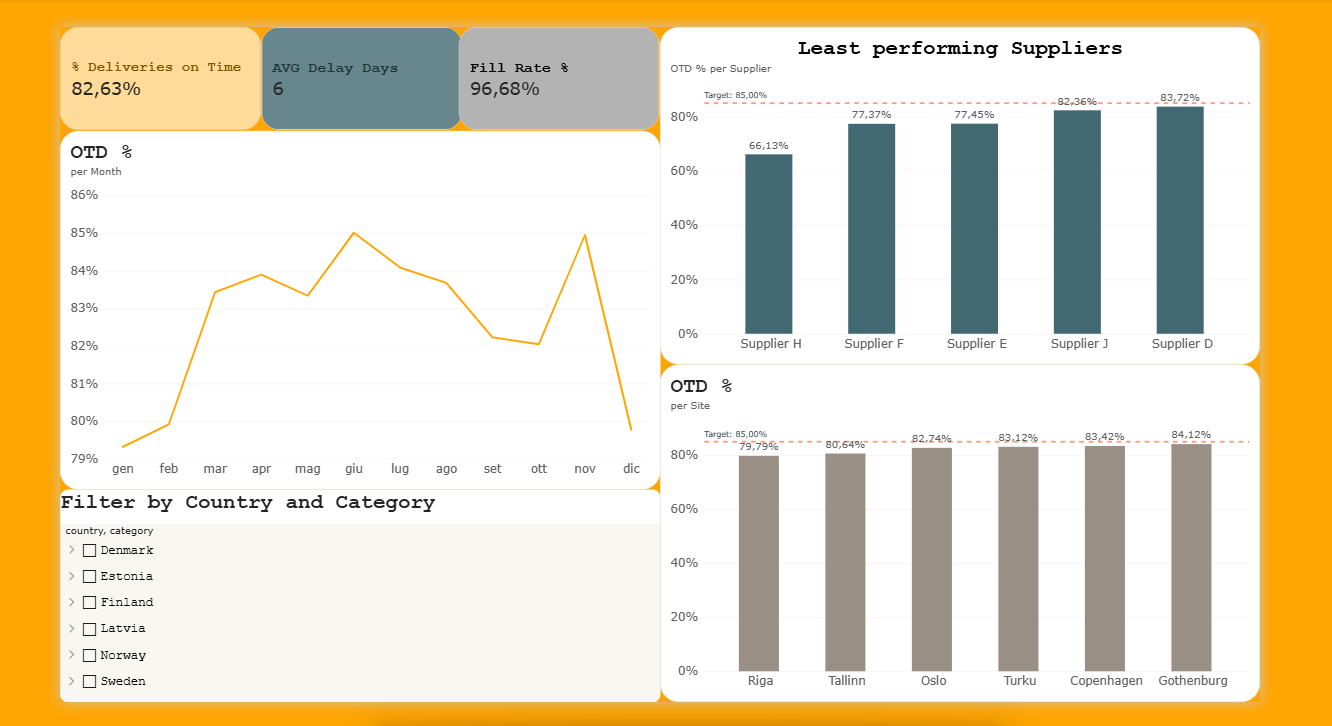

What the dashboard file says about the page in this screenshot:
{"tool":"powerbi","page":{"name":"Supply Chain","canvas":[1920,1080],"ordinal":0},"visuals":[{"type":"cardVisual","fields":{"Data":["_Measures.OTD %"]},"box":[0,0,321.7,165],"z":0},{"type":"cardVisual","title":"AVG Delay Days","fields":{"Data":["_Measures.AVG Delay Days"]},"box":[321.7,0,321.7,165],"z":1000},{"type":"cardVisual","fields":{"Data":["_Measures.Fill Rate %"]},"box":[638,0,321.7,165],"z":2000},{"type":"clusteredColumnChart","fields":{"Category":["sites.site_name"],"Y":["_Measures.OTD %"]},"box":[960,540,960,540],"z":3000},{"type":"lineChart","fields":{"Category":["DimCalendar.Month"],"Y":["_Measures.OTD %"]},"box":[0,165.6,960.7,574.2],"z":4000},{"type":"clusteredColumnChart","title":"Least performing Suppliers","fields":{"Category":["suppliers.supplier_name"],"Y":["_Measures.OTD %"]},"box":[960,0,960,540],"z":5000},{"type":"slicer","title":"Filter by Country and Category","fields":{"Values":["sites.country","orders.category"]},"box":[0,739.9,960.7,340.5],"z":6000}]}

Visuals, with their boxes on the page's 1920x1080 design canvas (x1, y1, x2, y2). These are canvas units, not pixel positions in the 1332x726 screenshot, which may show the page scaled, cropped or inside an application window:
cardVisual - _Measures.OTD %: <box>0,0,322,165</box>
"AVG Delay Days" cardVisual: <box>322,0,643,165</box>
cardVisual - _Measures.Fill Rate %: <box>638,0,960,165</box>
clusteredColumnChart - sites.site_name x _Measures.OTD %: <box>960,540,1920,1080</box>
lineChart - DimCalendar.Month x _Measures.OTD %: <box>0,166,961,740</box>
"Least performing Suppliers" clusteredColumnChart: <box>960,0,1920,540</box>
"Filter by Country and Category" slicer: <box>0,740,961,1080</box>
